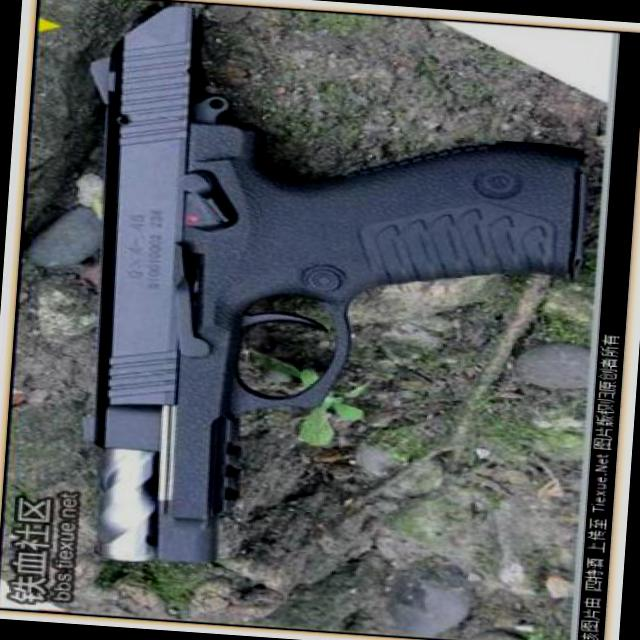handgun: (69, 0, 619, 613)
